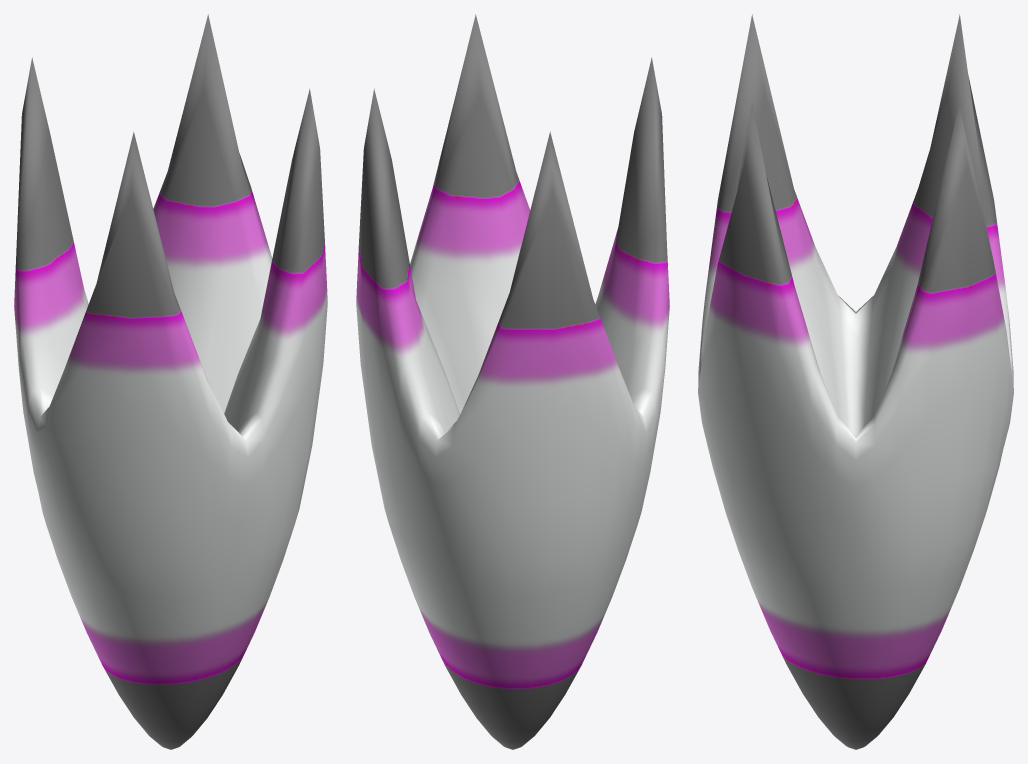
The model's file is staticShieldTopDestructible.fbx.
3 renders of one model, left to right at view 1: azimuth 30°, elevation 25°; view 2: azimuth 150°, elevation 25°; view 3: azimuth 270°, elevation 25°, orthographic. The views are drawn at different scales.
Visible parts, largest first — view 1: SurfSphere; view 2: SurfSphere; view 3: SurfSphere.
Boxes of the visible parts, x1,y1,x2,y2 form: SurfSphere: (14,14,327,749); SurfSphere: (356,14,669,749); SurfSphere: (698,14,1013,749).
Size of the model in its own units: 2.31 by 5.59 by 2.31.
